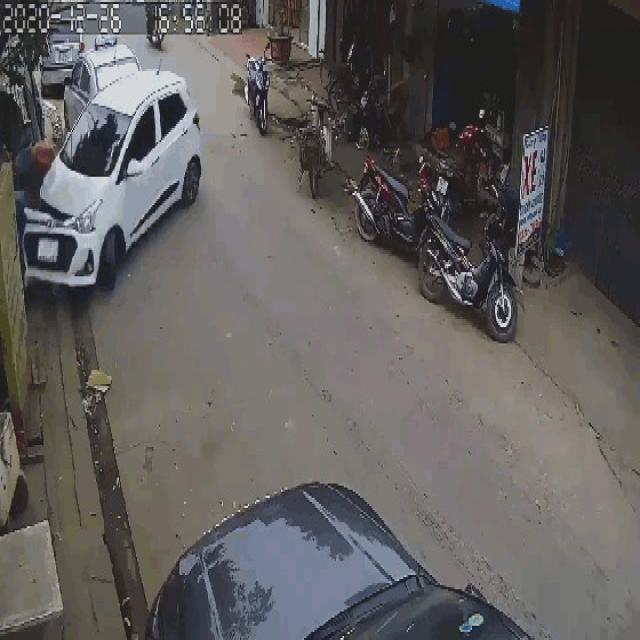normal: (233, 39, 551, 363)
single accident: (15, 40, 205, 295)
